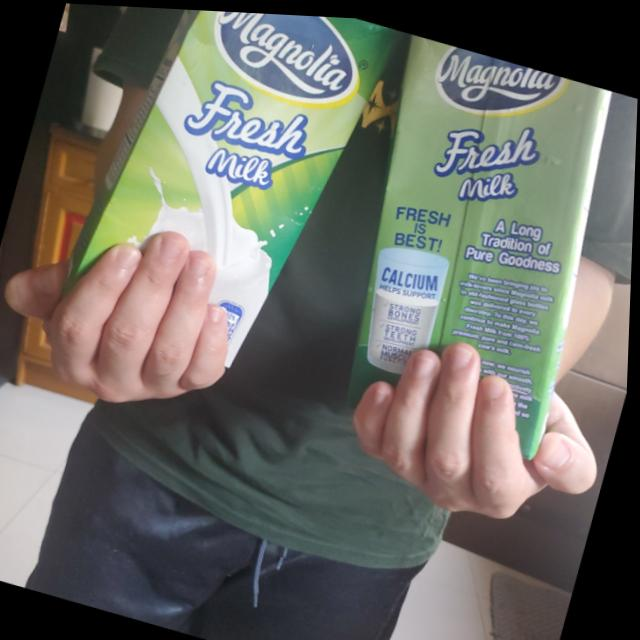milk: (308, 25, 629, 471), (49, 2, 393, 392)
